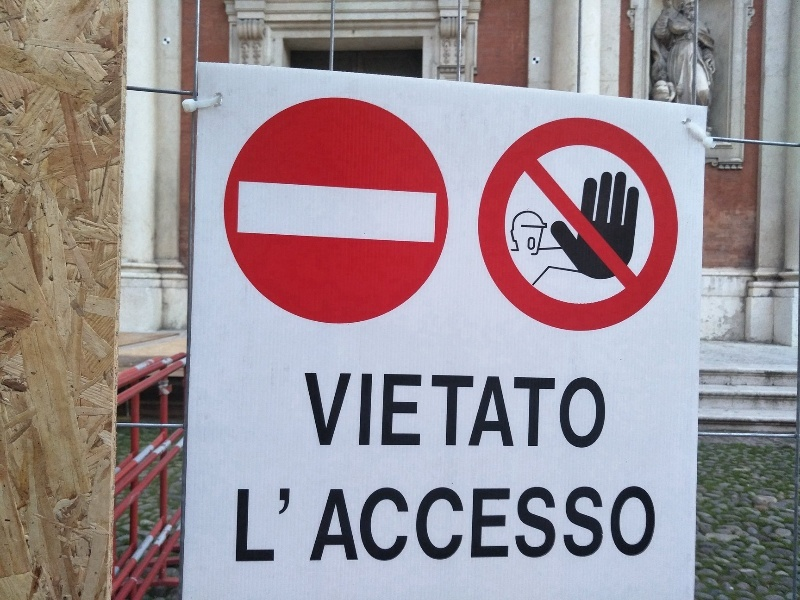text: (641, 483, 657, 563), (337, 483, 352, 563), (353, 483, 368, 563), (369, 483, 384, 563), (385, 483, 400, 563), (401, 483, 416, 563), (417, 483, 432, 563), (433, 483, 448, 563), (449, 483, 464, 563), (465, 483, 480, 563), (481, 483, 496, 563), (497, 483, 512, 563), (513, 483, 528, 563), (529, 483, 544, 563), (545, 483, 560, 563), (561, 483, 576, 563), (577, 483, 592, 563), (593, 483, 608, 563), (609, 483, 624, 563), (625, 483, 640, 563), (305, 373, 320, 451), (321, 373, 336, 451), (337, 373, 352, 451), (353, 373, 368, 451), (369, 373, 384, 451), (385, 373, 400, 451), (401, 373, 416, 451), (417, 373, 432, 451), (433, 373, 448, 451), (449, 373, 464, 451), (465, 373, 480, 451), (481, 373, 496, 451), (497, 373, 512, 451), (513, 373, 528, 451), (529, 373, 544, 451), (545, 373, 560, 451), (561, 373, 576, 451), (577, 373, 592, 451), (241, 489, 256, 565), (257, 489, 272, 565), (273, 489, 288, 565), (593, 373, 607, 451), (331, 483, 336, 563), (238, 489, 240, 565), (289, 489, 291, 565)
